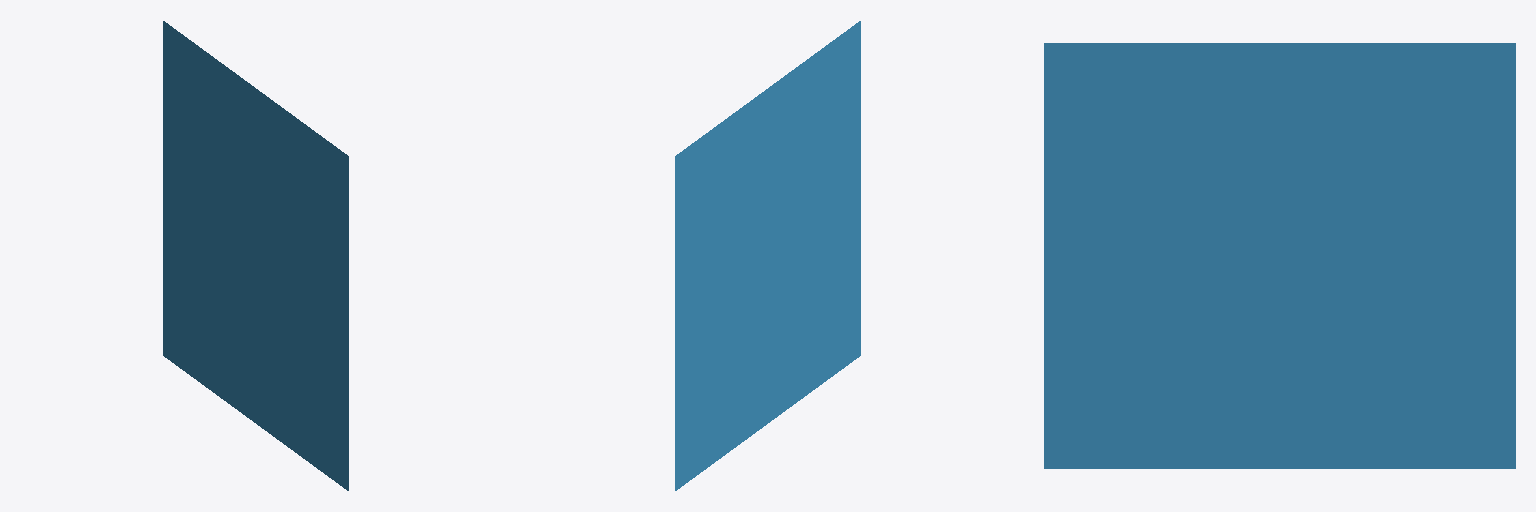
robot.urdf — cso_visualization:
<?xml version="1.0"?>
<robot name="cso_visualization">

    <link name="J2K">
        <visual>
          <geometry>
           <mesh filename="package://rospace_simulator/res/meshes/earth-mesh.stl" scale="1 1 1">
            </mesh>
          </geometry>
          <material name="texture">
		<texture filename="package://rospace_simulator/res/meshes/1_earth_8k.jpg"/>
	  </material>
        </visual>
    </link>

   

    <link name="swisscube">
        <visual>
            <geometry>
                <box size="0.1 0.1 0.1"/>
            </geometry>
            <!-- material name="blue" / -->
            <origin rpy="0 0 0" xyz="0 0 0"/>
        </visual>
    </link>

    <joint name="target2J2K" type="fixed">
        <parent link="J2K"/>
        <child link="swisscube"/>
        <origin xyz="7000000 0 0 "/>
    </joint>

 </robot>

--- What the picture shows (computed from the rendered views, not written in the file) ---
The picture shows the robot from 3 angles, left to right: view 1: azimuth 30°, elevation 25°; view 2: azimuth 150°, elevation 25°; view 3: azimuth 270°, elevation 25°; orthographic projection.
Model cso_visualization with 2 links and 1 joints (1 fixed), rooted at J2K, posed every joint at zero.
Links seen in each view (by area): view 1: swisscube; view 2: swisscube; view 3: swisscube.
Link boxes in pixels (left/top/right/bottom): swisscube: left=163, top=21, right=348, bottom=490; swisscube: left=675, top=21, right=860, bottom=490; swisscube: left=1044, top=43, right=1515, bottom=468.
Bounding box of the posed robot: 0 × 0.1 × 0.1 m (x, y, z).
0 mesh visuals loaded from 1 distinct referenced files (none loaded); not drawn: 1 (reference not matched to a file when rendering).